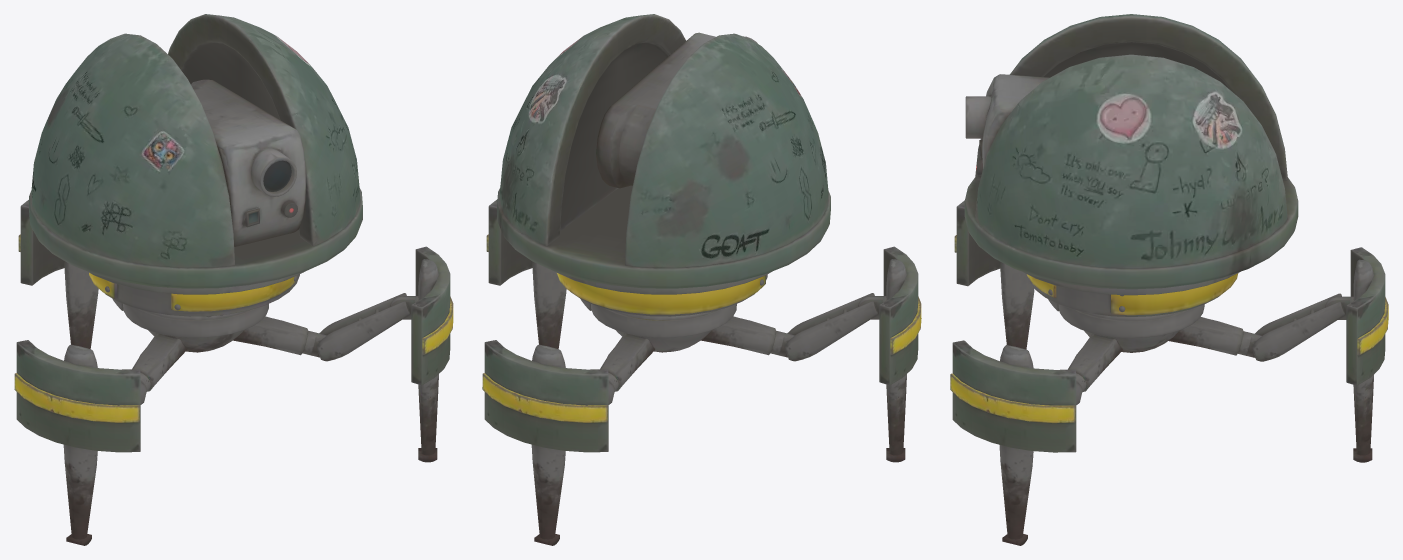
The model's file is friendly_robot.optimized.glb.
The picture shows the model from 3 angles, left to right: view 1: azimuth 30°, elevation 25°; view 2: azimuth 150°, elevation 25°; view 3: azimuth 270°, elevation 25°; orthographic projection.
Parts seen in each view (by area): view 1: Head_shell_002_low__0, Cube_029_low__0, Leg_Back.023_low__0, Head_Base_002_low__0, Body_004_low__0, Leg_Back.029_low__0, Leg_Back.022_low__0, Leg_Back.027_low__0, Leg_Back_016_low__0, Leg_Back.028_low__0, Leg_Back_017_low__0, Leg_Back.024_low__0 (+2 smaller); view 2: Head_shell_002_low__0, Head_Base_002_low__0, Leg_Back_017_low__0, Cube_029_low__0, Leg_Back.023_low__0, Body_004_low__0, Body_005_low__0, Leg_Back_016_low__0, Leg_Back.021_low__0, Leg_Back.028_low__0, Leg_Back.022_low__0, Leg_Back.029_low__0 (+3 smaller); view 3: Head_shell_002_low__0, Leg_Back.029_low__0, Head_Base_002_low__0, Body_004_low__0, Leg_Back_017_low__0, Cube_029_low__0, Leg_Back.028_low__0, Leg_Back_015_low__0, Body_005_low__0, Leg_Back.022_low__0, Leg_Back_016_low__0, Leg_Back.023_low__0 (+3 smaller).
Boxes of the visible parts, x1,y1,x2,y2 form: Head_shell_002_low__0: [31, 14, 360, 267]; Cube_029_low__0: [191, 79, 305, 246]; Leg_Back.023_low__0: [14, 340, 140, 452]; Head_Base_002_low__0: [29, 188, 362, 288]; Body_004_low__0: [88, 271, 303, 337]; Leg_Back.029_low__0: [411, 246, 453, 385]; Leg_Back.022_low__0: [63, 344, 97, 545]; Leg_Back.027_low__0: [317, 293, 409, 361]; Leg_Back_016_low__0: [64, 261, 98, 349]; Leg_Back.028_low__0: [418, 259, 438, 462]; Leg_Back_017_low__0: [18, 200, 64, 285]; Leg_Back.024_low__0: [233, 316, 308, 355]; Head_shell_002_low__0: [499, 14, 828, 267]; Head_Base_002_low__0: [497, 185, 830, 288]; Leg_Back_017_low__0: [482, 340, 608, 452]; Cube_029_low__0: [596, 32, 757, 188]; Leg_Back.023_low__0: [879, 246, 921, 385]; Body_004_low__0: [556, 271, 771, 337]; Body_005_low__0: [556, 273, 765, 314]; Leg_Back_016_low__0: [531, 344, 565, 545]; Leg_Back.021_low__0: [785, 293, 877, 361]; Leg_Back.028_low__0: [532, 261, 566, 349]; Leg_Back.022_low__0: [886, 259, 906, 462]; Leg_Back.029_low__0: [486, 199, 532, 285]; Head_shell_002_low__0: [975, 14, 1287, 268]; Leg_Back.029_low__0: [950, 340, 1076, 452]; Head_Base_002_low__0: [964, 177, 1298, 289]; Body_004_low__0: [1023, 272, 1239, 338]; Leg_Back_017_low__0: [1346, 247, 1388, 385]; Cube_029_low__0: [965, 74, 1049, 175]; Leg_Back.028_low__0: [999, 345, 1033, 545]; Leg_Back_015_low__0: [1252, 293, 1344, 361]; Body_005_low__0: [1111, 273, 1238, 315]; Leg_Back.022_low__0: [1000, 262, 1034, 349]; Leg_Back_016_low__0: [1353, 259, 1374, 462]; Leg_Back.023_low__0: [954, 200, 1000, 286].
Size of the model in its own units: 0.9874 by 0.9673 by 0.908.
1 material, 1 textured.
